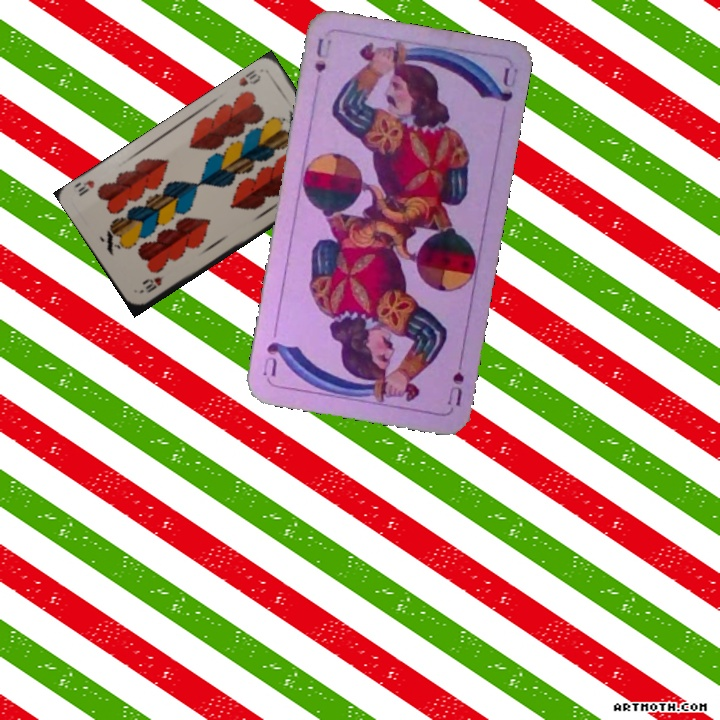H10: (234, 66, 264, 89), (141, 271, 167, 296)
SU: (443, 352, 466, 408), (310, 34, 334, 75)
